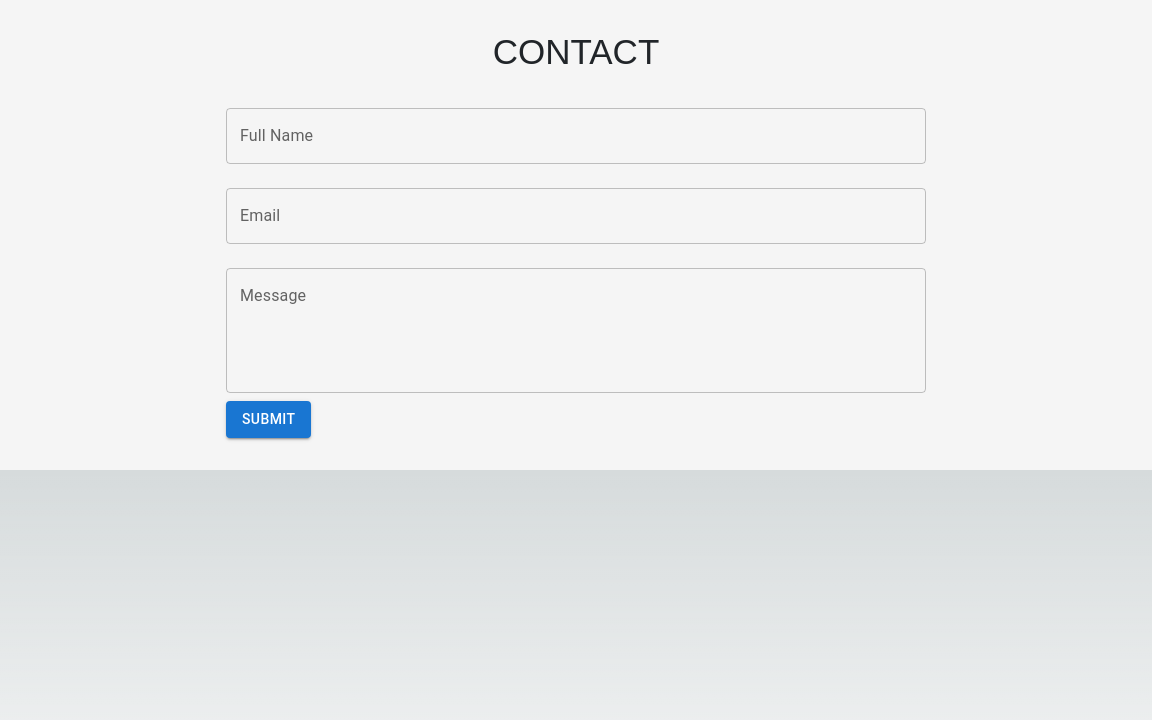
Test: ContactForm › handles server error and shows error message
This screenshot has width=1152, height=720.
Step 1. Type "John Doe" into the field labelled "Full Name" → (576, 136), box [226,108,926,164]
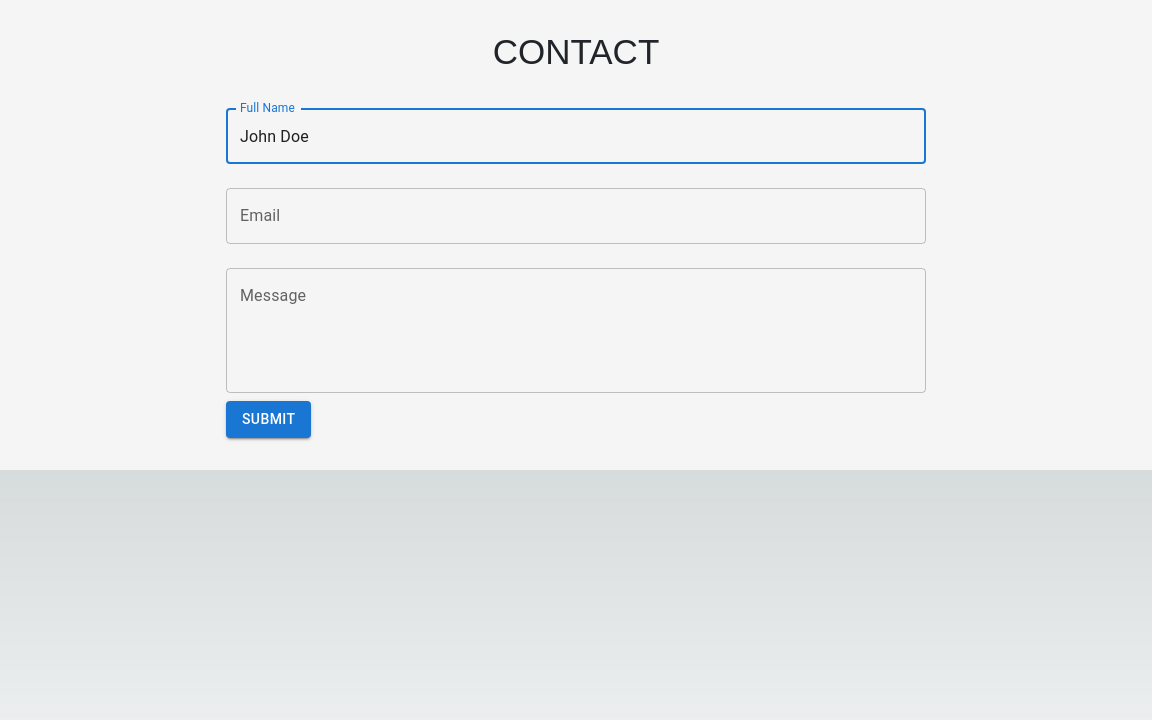
Step 2. Type "john.doe@example.com" into the field labelled "Email" → (576, 216), box [226,188,926,244]
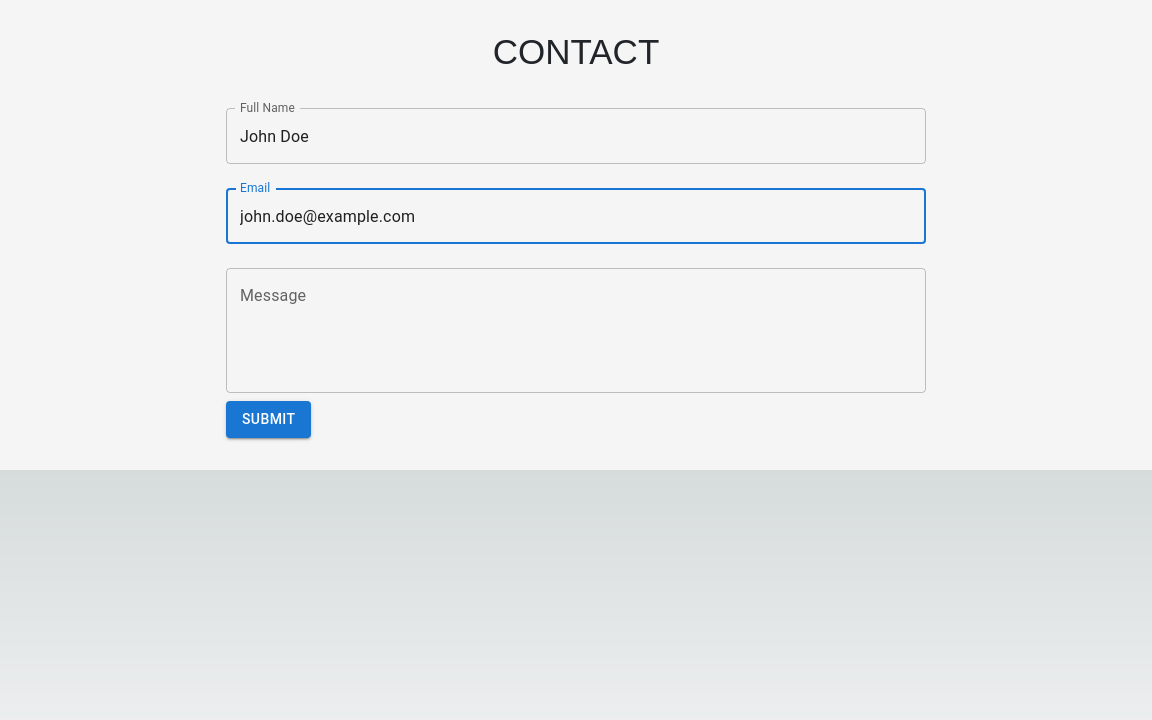
Step 3. Type "Hello, this is a test message." into the text box labelled "Message" → (576, 330), box [240,284,912,376]
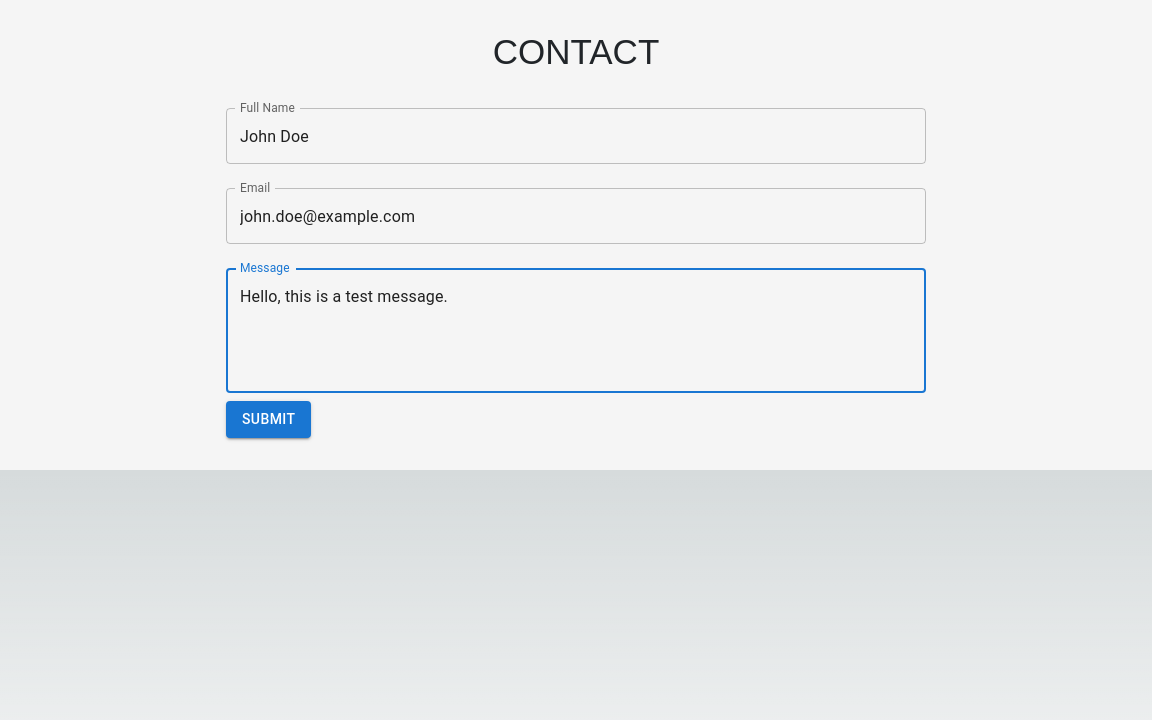
Step 4. Submit the form from the button, box [226,401,311,438]
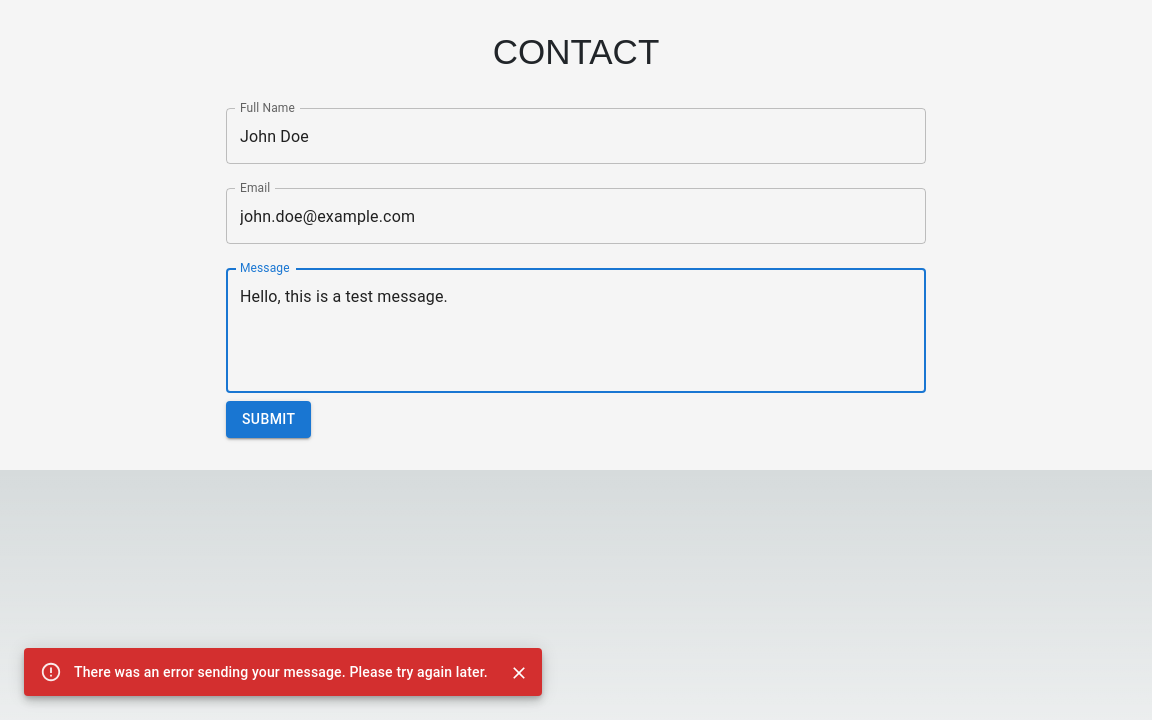
Check: the text "There was an error sending your message. Please try again later." is shown, box [74,664,488,680]
